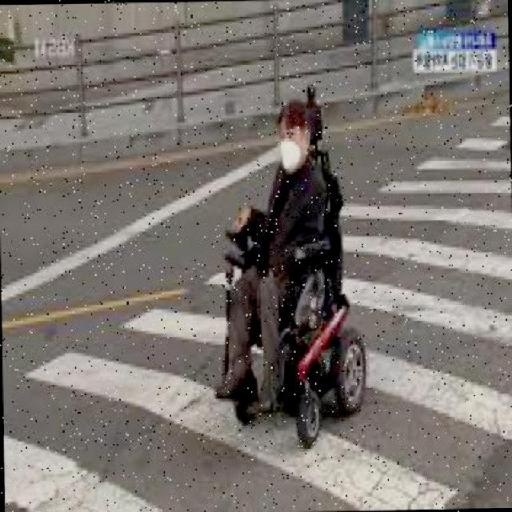cadeira_de_rodas: (192, 69, 389, 461)
